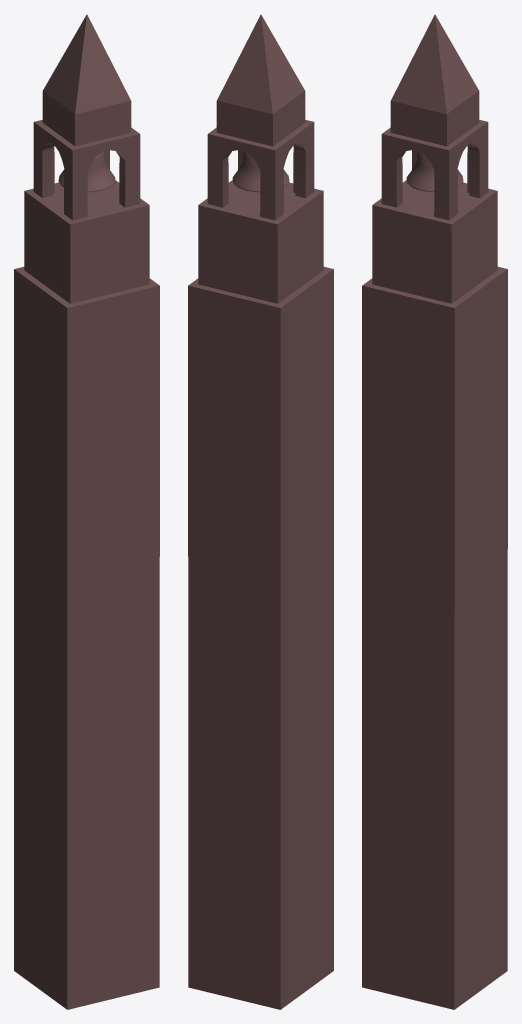
Rendered from tower.fbx.
The picture shows the model from 3 angles, left to right: view 1: azimuth 30°, elevation 25°; view 2: azimuth 150°, elevation 25°; view 3: azimuth 330°, elevation 25°; orthographic projection.
Visible parts, largest first — view 1: cube_full1; view 2: cube_full1; view 3: cube_full1.
Boxes of the visible parts, x1,y1,x2,y2 form: cube_full1: (14,14,159,1009); cube_full1: (188,14,333,1009); cube_full1: (362,14,507,1009).
Size of the model in its own units: 500 by 4994 by 500.
